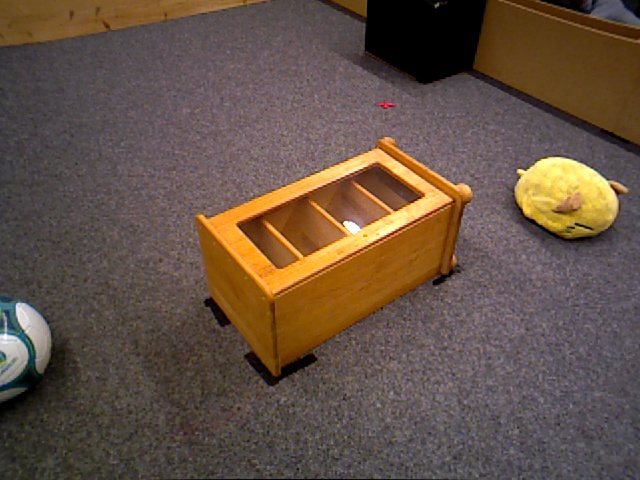grasp: (514, 153, 620, 241)
kick: (1, 295, 53, 403)
push: (367, 1, 488, 85)
